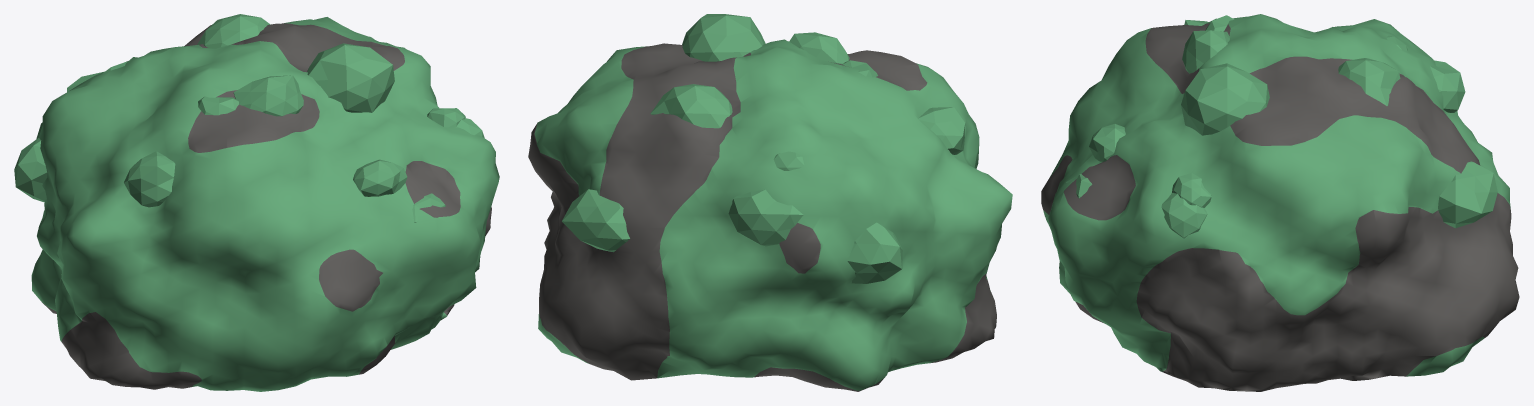
File: garnierite_deep.glb
3 views of the same model, side by side, from view 1: azimuth 30°, elevation 25°; view 2: azimuth 150°, elevation 25°; view 3: azimuth 270°, elevation 25° (orthographic). The views are drawn at different scales.
Visible parts, largest first — view 1: garnierite_deep; view 2: garnierite_deep; view 3: garnierite_deep.
Boxes of the visible parts, bbox=[...] form: garnierite_deep: bbox=[14, 14, 499, 391]; garnierite_deep: bbox=[528, 14, 1012, 391]; garnierite_deep: bbox=[1041, 14, 1519, 391].
Bounding box in the file's own units: 2.19 × 1.31 × 2.11.
